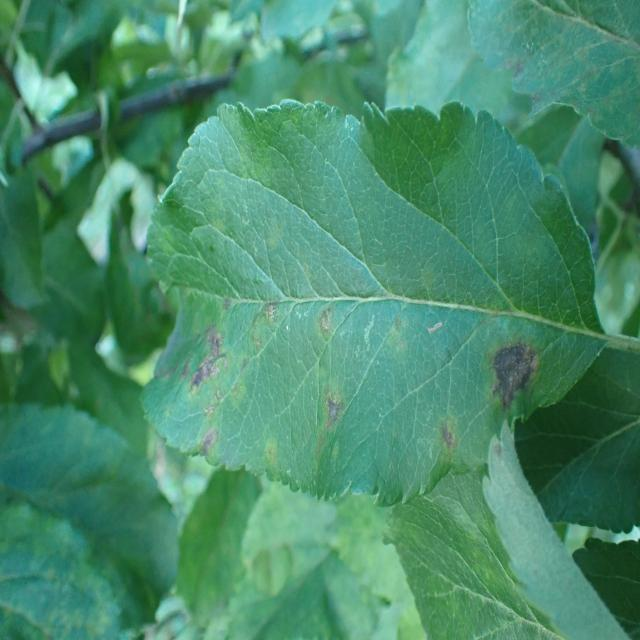scab: (136, 224, 597, 508)
